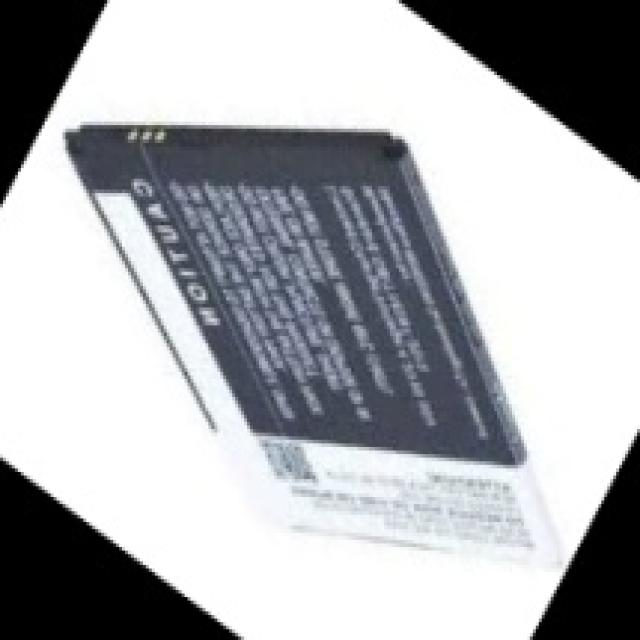elektronik: (69, 125, 548, 571)
